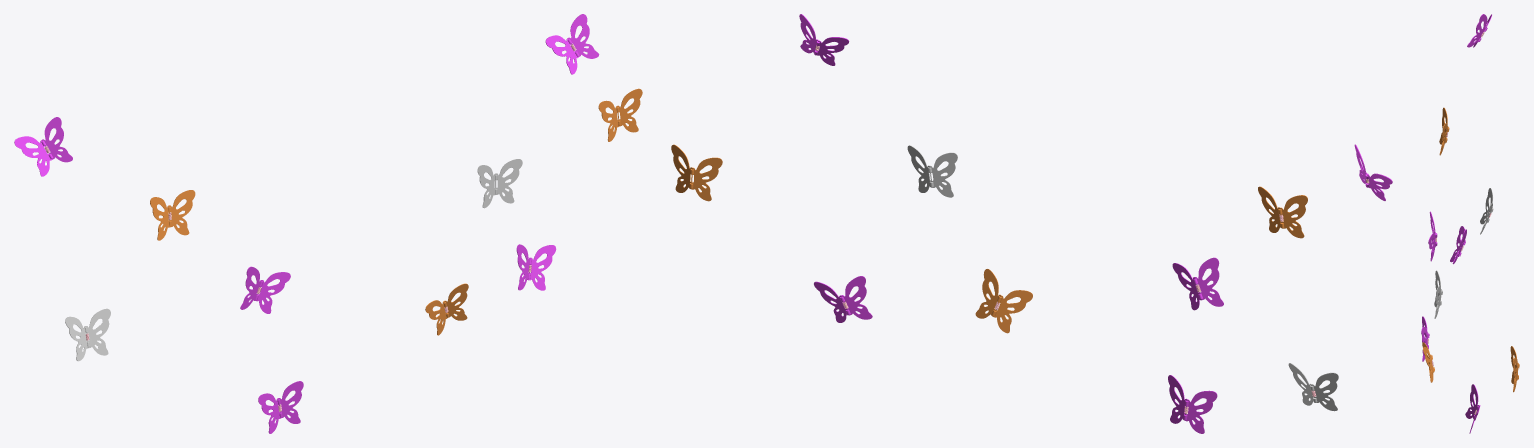
The model's file is butterfly_pin_set.glb.
The picture shows the model from 3 angles, left to right: view 1: azimuth 30°, elevation 25°; view 2: azimuth 150°, elevation 25°; view 3: azimuth 270°, elevation 25°; orthographic projection. The views are drawn at different scales.
Visible parts, largest first — view 1: pCylinder6, pCylinder8, pCylinder7, pCylinder10, pCylinder4, pCylinder9, pCylinder12, pCylinder5, pCylinder3, pCylinder11; view 2: pCylinder11, pCylinder5, pCylinder12, pCylinder9, pCylinder4, pCylinder3, pCylinder10, pCylinder7, pCylinder8; view 3: pCylinder3, pCylinder6, pCylinder8, pCylinder7, pCylinder10, pCylinder5, pCylinder4, pCylinder9, pCylinder11, pCylinder12.
Boxes of the visible parts, box(x1,y1,x2,y2) form: pCylinder6: box(14, 117, 72, 176); pCylinder8: box(545, 14, 599, 74); pCylinder7: box(65, 308, 110, 361); pCylinder10: box(150, 190, 195, 240); pCylinder4: box(477, 159, 522, 208); pCylinder9: box(240, 266, 290, 313); pCylinder12: box(258, 381, 303, 433); pCylinder5: box(598, 88, 642, 141); pCylinder3: box(516, 244, 556, 290); pCylinder11: box(425, 283, 468, 335); pCylinder11: box(975, 269, 1032, 333); pCylinder5: box(671, 144, 722, 201); pCylinder12: box(1168, 375, 1217, 433); pCylinder9: box(1172, 257, 1223, 310); pCylinder4: box(907, 145, 957, 197); pCylinder3: box(814, 276, 872, 322); pCylinder10: box(1258, 186, 1307, 238); pCylinder7: box(1288, 363, 1338, 411); pCylinder8: box(799, 14, 849, 65); pCylinder3: box(1465, 384, 1480, 433); pCylinder6: box(1467, 14, 1491, 47); pCylinder8: box(1450, 226, 1466, 264); pCylinder7: box(1480, 188, 1493, 234); pCylinder10: box(1439, 107, 1449, 155); pCylinder5: box(1510, 346, 1519, 392); pCylinder4: box(1434, 270, 1442, 318); pCylinder9: box(1428, 211, 1437, 261); pCylinder11: box(1422, 342, 1434, 382); pCylinder12: box(1421, 316, 1429, 361).
Bounding box in the file's own units: 1.46 × 0.7254 × 0.2395.
